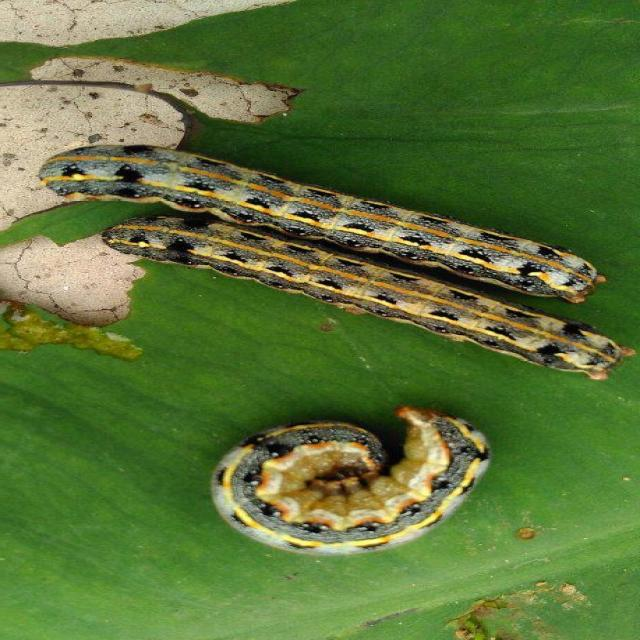army worm: (27, 136, 611, 311), (68, 216, 627, 385), (208, 405, 501, 562)
